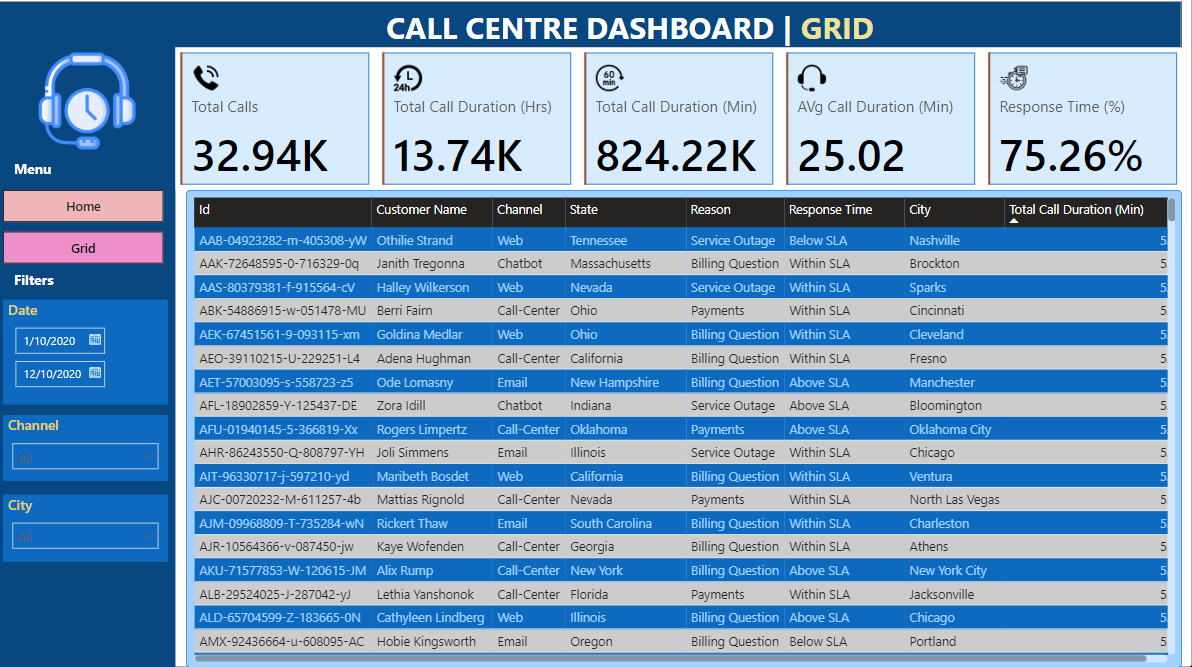

The page's visual inventory and layout, read from the dashboard file:
{"tool":"powerbi","page":{"name":"Grid","canvas":[1280,720],"ordinal":1},"visuals":[{"type":"shape","box":[11.1,12.7,1257.2,50],"z":0},{"type":"shape","box":[10.6,48.5,190.9,671.2],"z":1000},{"type":"cardVisual","fields":{"Data":["Call Center_Call Center (1).Total Calls","Call Center_Call Center (1).Total Call Duration (Hrs)","Call Center_Call Center (1).Total Call Duration (Min)","Call Center_Call Center (1).AVg Call Duration (Min)","Call Center_Call Center (1).Response Time (%)"]},"box":[201.9,62,1066.5,151],"z":2000},{"type":"textbox","box":[201.9,12.7,963.2,260.7],"z":3000},{"type":"slicer","title":"Date","fields":{"Values":["Date Table.Date"]},"box":[19.1,329,174.8,111.3],"z":4000},{"type":"slicer","title":"Channel","fields":{"Values":["Call Center_Call Center (1).Channel"]},"box":[19.1,451.4,174.8,69.9],"z":5000},{"type":"slicer","title":"City","fields":{"Values":["Call Center_Call Center (1).City"]},"box":[19.1,535.6,174.8,71.5],"z":6000},{"type":"tableEx","fields":{"Values":["Call Center_Call Center (1).Id","Call Center_Call Center (1).Customer Name","Call Center_Call Center (1).Channel","Call Center_Call Center (1).State","Call Center_Call Center (1).Reason","Call Center_Call Center (1).Response Time","Call Center_Call Center (1).City","Call Center_Call Center (1).Total Call Duration (Min)"]},"box":[213,213,1055.4,507],"z":7000},{"type":"pageNavigator","box":[19.1,213,170.1,79.5],"z":8000},{"type":"image","box":[50.9,62,114.4,112.8],"z":9000},{"type":"textbox","box":[25.4,174.8,63.6,38.1],"z":10000},{"type":"textbox","box":[25.4,292.5,63.6,38.1],"z":11000}]}

Visuals, with their boxes in screenshot pixels (x1, y1, x2, y2), scaled from the page's 1280x720 canvas onto the 1192x667 screenshot:
shape: <bbox>10, 12, 1181, 58</bbox>
shape: <bbox>10, 45, 188, 666</bbox>
cardVisual - Call Center_Call Center (1).Total Calls x Call Center_Call Center (1).Total Call Duration (Hrs): <bbox>188, 57, 1181, 197</bbox>
textbox: <bbox>188, 12, 1085, 253</bbox>
"Date" slicer: <bbox>18, 305, 181, 408</bbox>
"Channel" slicer: <bbox>18, 418, 181, 483</bbox>
"City" slicer: <bbox>18, 496, 181, 562</bbox>
tableEx - Call Center_Call Center (1).Id x Call Center_Call Center (1).Customer Name: <bbox>198, 197, 1181, 666</bbox>
pageNavigator: <bbox>18, 197, 176, 271</bbox>
image: <bbox>47, 57, 154, 162</bbox>
textbox: <bbox>24, 162, 83, 197</bbox>
textbox: <bbox>24, 271, 83, 306</bbox>
